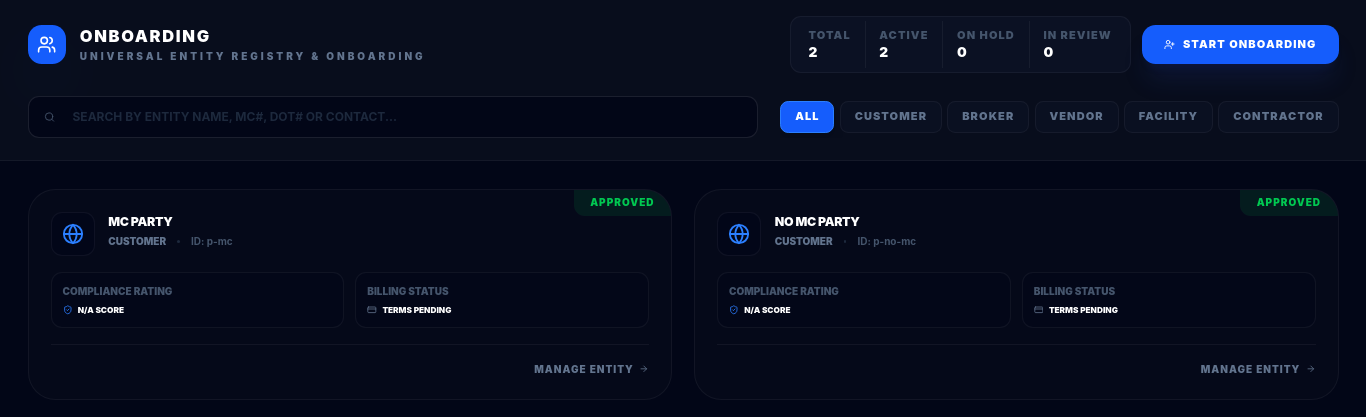
Scenario: NetworkPortal component › filters by MC number when searching
The width and height of the screenshot is (1366, 417).
expect the heading "MC Party" is shown: met, box top-left (108, 214), bottom-right (172, 229)
Type "MC-123456" into the field with placeholder "SEARCH BY ENTITY NAME, MC#, DOT# OR CONTACT..." at (393, 117), box top-left (28, 96), bottom-right (758, 138)
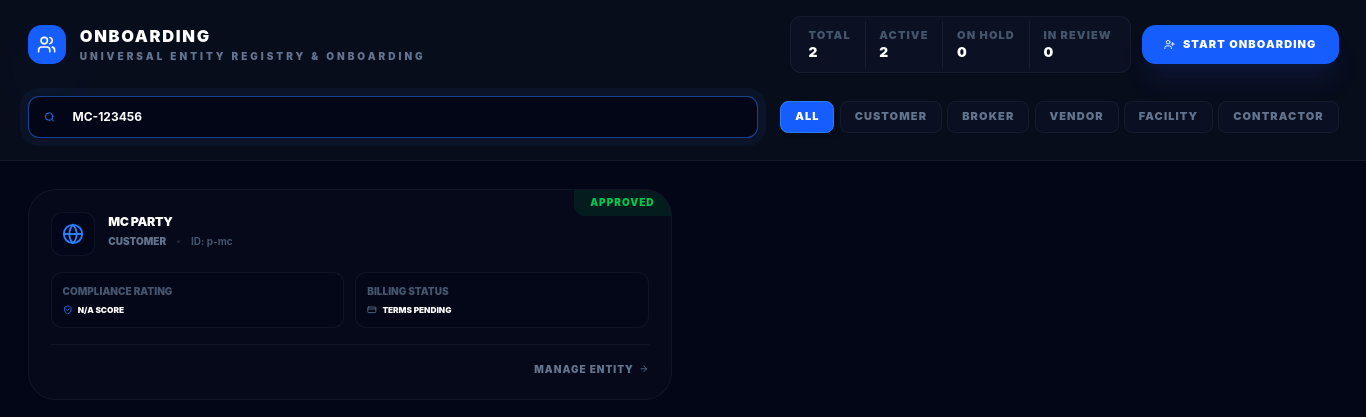
expect the heading "MC Party" is shown: met, box top-left (108, 214), bottom-right (172, 229)
expect the heading "No MC Party" is gone: met
